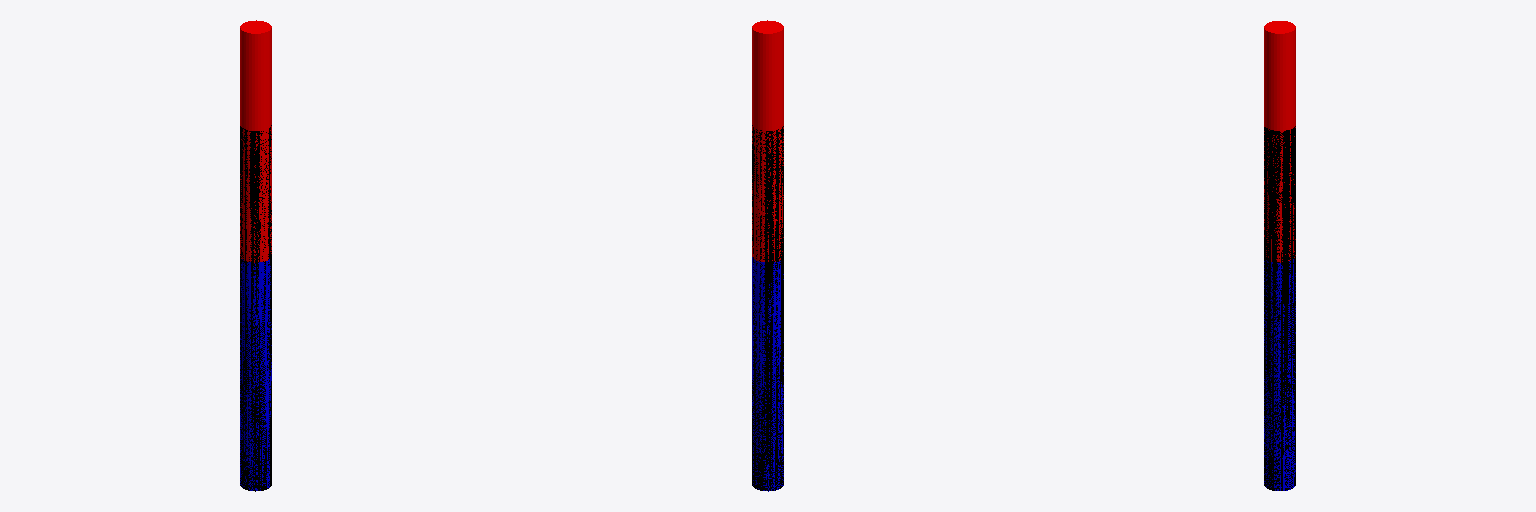
URDF robot description (five_link_walker):
<?xml version="1.0" ?>
<!-- =================================================================================== -->
<!-- |    This document was autogenerated by xacro from five_link_walker.xacro         | -->
<!-- |    EDITING THIS FILE BY HAND IS NOT RECOMMENDED                                 | -->
<!-- =================================================================================== -->
<robot name="five_link_walker" xmlns:xacro="http://ros.org/wiki/xacro">
  <link name="torso">
    <inertial>
      <origin xyz="0 0 0.24" rpy="0 0 0"/>
      <mass value="12"/>
      <inertia ixx="0" ixy="0" ixz="0" iyy="1.33" iyz="0" izz="0"/>
    </inertial>
    <visual>
      <origin xyz="0 0 0.315"/>
      <geometry>
        <cylinder length="0.63" radius="0.025"/>
      </geometry>
      <material name="black">
        <color rgba="0 0 0 1"/>
      </material>
    </visual>
  </link>
  <link name="right_thigh">
    <inertial>
      <origin xyz="0 0 0.11" rpy="0 0 0"/>
      <mass value="6.8"/>
      <inertia ixx="0" ixy="0" ixz="0" iyy="0.47" iyz="0" izz="0"/>
    </inertial>
    <visual>
      <origin xyz="0 0 0.2"/>
      <geometry>
        <cylinder length="0.4" radius="0.025"/>
      </geometry>
      <material name="blue">
        <color rgba="0 0 1 1"/>
      </material>
    </visual>
  </link>
  <link name="left_thigh">
    <inertial>
      <origin xyz="0 0 0.11" rpy="0 0 0"/>
      <mass value="6.8"/>
      <inertia ixx="0" ixy="0" ixz="0" iyy="0.47" iyz="0" izz="0"/>
    </inertial>
    <visual>
      <origin xyz="0 0 0.2"/>
      <geometry>
        <cylinder length="0.4" radius="0.025"/>
      </geometry>
      <material name="red">
        <color rgba="1 0 0 1"/>
      </material>
    </visual>
  </link>
  <link name="right_shin">
    <inertial>
      <origin xyz="0 0 0.24" rpy="0 0 0"/>
      <mass value="3.2"/>
      <inertia ixx="0" ixy="0" ixz="0" iyy="0.2" iyz="0" izz="0"/>
    </inertial>
    <visual>
      <origin xyz="0 0 0.2"/>
      <geometry>
        <cylinder length="0.4" radius="0.025"/>
      </geometry>
      <material name="blue">
        <color rgba="1 0 0 1"/>
      </material>
    </visual>
  </link>
  <link name="left_shin">
    <inertial>
      <origin xyz="0 0 0.24" rpy="0 0 0"/>
      <mass value="3.2"/>
      <inertia ixx="0" ixy="0" ixz="0" iyy="0.2" iyz="0" izz="0"/>
    </inertial>
    <visual>
      <origin xyz="0 0 0.2"/>
      <geometry>
        <cylinder length="0.4" radius="0.025"/>
      </geometry>
      <material name="red">
        <color rgba="0 0 1 1"/>
      </material>
    </visual>
  </link>

  <joint name="q1_right" type="continuous">
    <origin xyz="0 0 0" rpy="0 0 0"/>
    <axis xyz="0 1 0"/>
    <parent link="torso"/>
    <child link="right_thigh"/>
  </joint>
   <joint name="q2_right" type="continuous">
    <origin xyz="0 0 0.4" rpy="0 0 0"/>
    <axis xyz="0 1 0"/>
    <parent link="right_thigh"/>
    <child link="right_shin"/>
  </joint>
    <joint name="q1_left" type="continuous">
    <origin xyz="0 0 0" rpy="0 0 0"/>
    <axis xyz="0 1 0"/>
    <parent link="torso"/>
    <child link="left_thigh"/>
  </joint>
  <joint name="q2_left" type="continuous">
    <origin xyz="0 0 0.4" rpy="0 0 0"/>
    <axis xyz="0 1 0"/>
    <parent link="left_thigh"/>
    <child link="left_shin"/>
  </joint>

</robot>

--- What the picture shows (computed from the rendered views, not written in the file) ---
The picture shows the robot from 3 angles, left to right: view 1: azimuth 30°, elevation 25°; view 2: azimuth 150°, elevation 25°; view 3: azimuth 270°, elevation 25°; orthographic projection.
Model five_link_walker with 5 links and 4 joints (4 continuous), rooted at torso, posed every joint at zero.
Links seen in each view (by area): view 1: torso, right_shin, right_thigh; view 2: torso, right_shin, right_thigh; view 3: torso, right_shin, right_thigh.
Link boxes in pixels (bbox=[...]): torso: bbox=[240, 125, 271, 491]; right_shin: bbox=[240, 20, 271, 262]; right_thigh: bbox=[240, 259, 271, 490]; torso: bbox=[752, 125, 783, 490]; right_shin: bbox=[752, 20, 783, 261]; right_thigh: bbox=[752, 257, 783, 491]; torso: bbox=[1264, 126, 1295, 490]; right_shin: bbox=[1264, 21, 1295, 262]; right_thigh: bbox=[1264, 259, 1295, 490].
Bounding box of the posed robot: 0.05 × 0.05 × 0.8 m (x, y, z).
Geometry: primitives only (box / cylinder / sphere), no mesh files.
